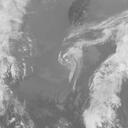cyclone: (55, 36, 88, 80)
